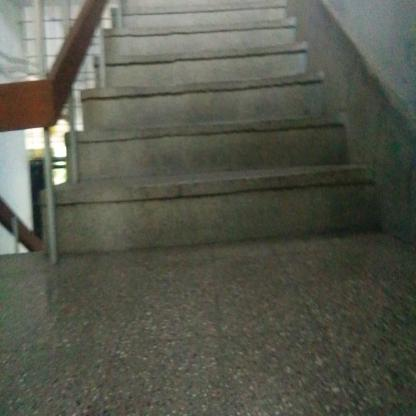stairs: (102, 67, 309, 265)
